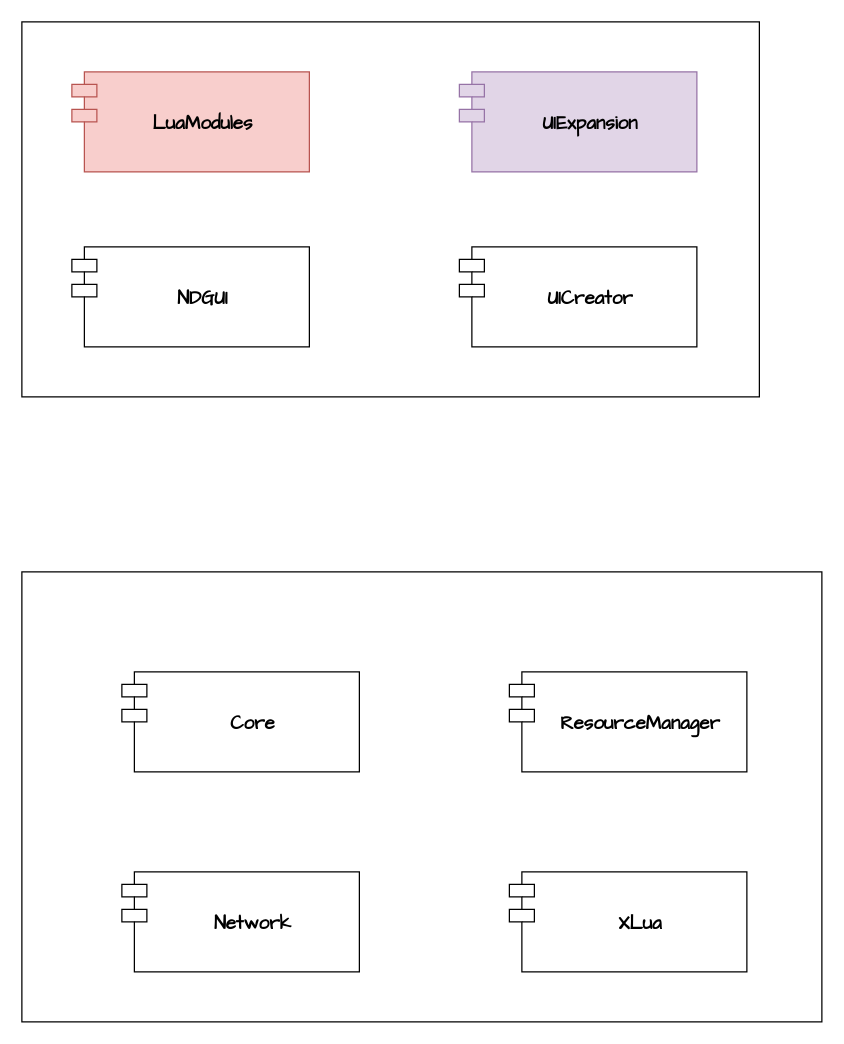
The diagram is 844 pixels wide and 1044 high, and some of its shapes have lost their labels. The shapes that lost their labels are listed below. From the top down, each one's box as (x1, y1, x2, y2) in pixels, then its label:
(21, 21, 759, 397): Gameplay
(21, 571, 822, 1022): Base
